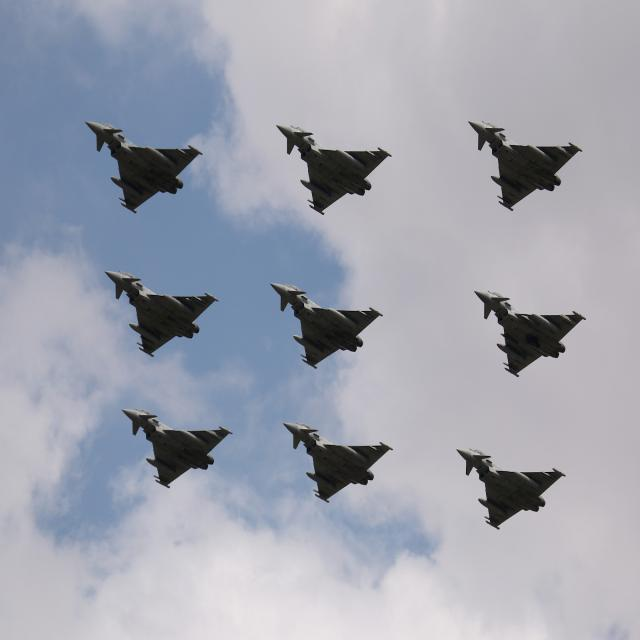MIL_Plane: (84, 120, 203, 214), (276, 124, 392, 215), (467, 120, 583, 211), (104, 270, 219, 358), (270, 282, 384, 370), (474, 290, 586, 378), (121, 408, 233, 489), (456, 448, 566, 530), (282, 422, 393, 503)
